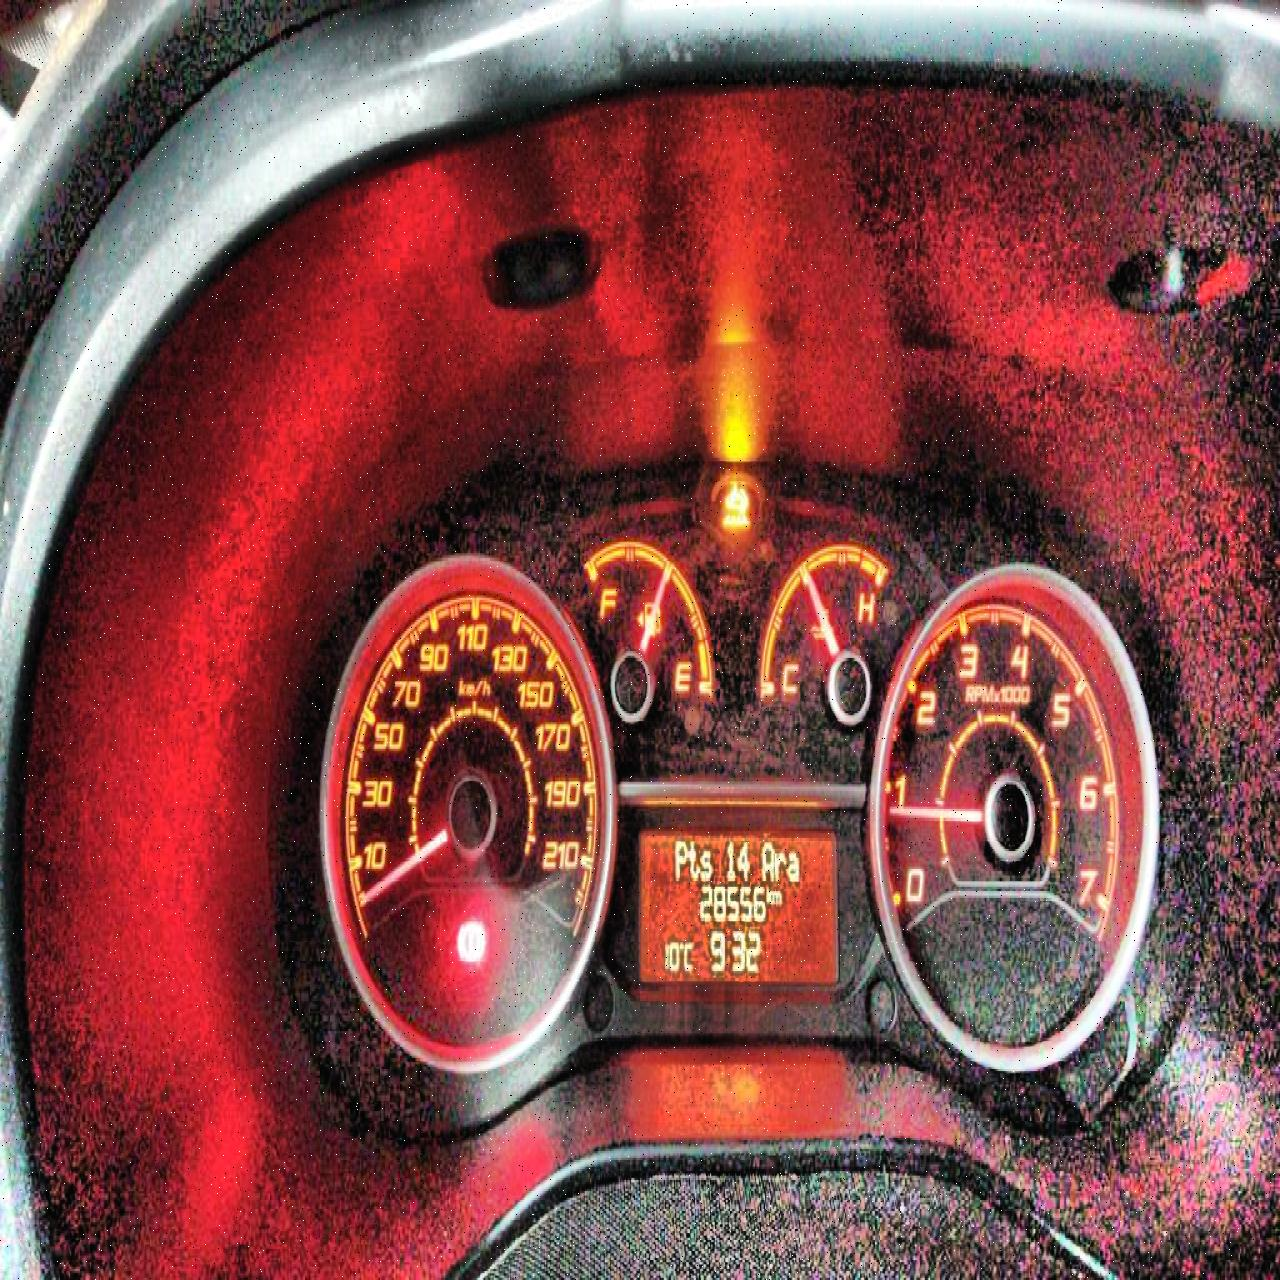0: (669, 938, 679, 972)
1: (724, 838, 735, 878), (663, 940, 667, 975)
2: (745, 931, 760, 971), (699, 884, 712, 920)
3: (731, 927, 745, 972)
4: (736, 837, 750, 876)
5: (726, 881, 738, 922), (738, 881, 751, 920)
6: (751, 881, 765, 920)
8: (712, 881, 723, 920)
9: (708, 925, 723, 974)
X: (674, 838, 688, 878), (760, 840, 772, 880), (699, 846, 713, 880), (772, 846, 787, 880), (787, 849, 799, 884), (688, 838, 699, 880), (685, 938, 694, 972), (771, 888, 781, 904), (765, 885, 771, 905)
odometer: (635, 822, 843, 989)
